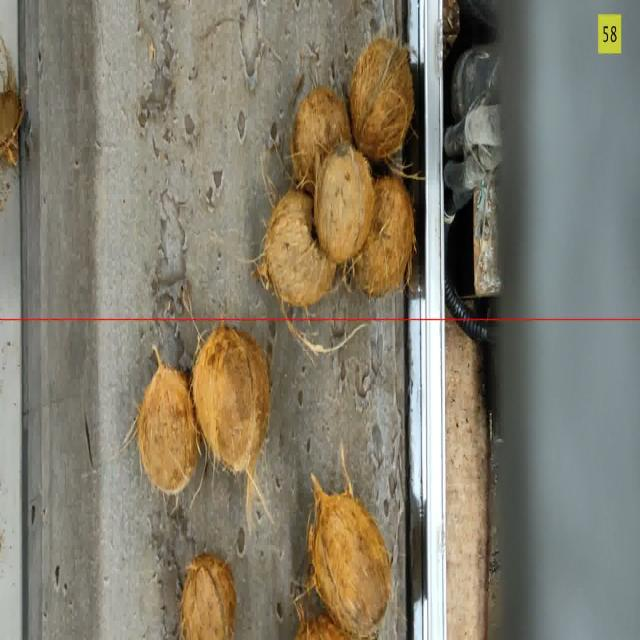Coconut-Conveyor-Belt: (308, 477, 394, 638), (198, 333, 266, 466), (260, 199, 336, 301), (136, 372, 194, 501), (353, 39, 411, 158), (357, 180, 414, 296), (172, 546, 242, 640), (317, 149, 373, 253), (292, 85, 350, 179)
